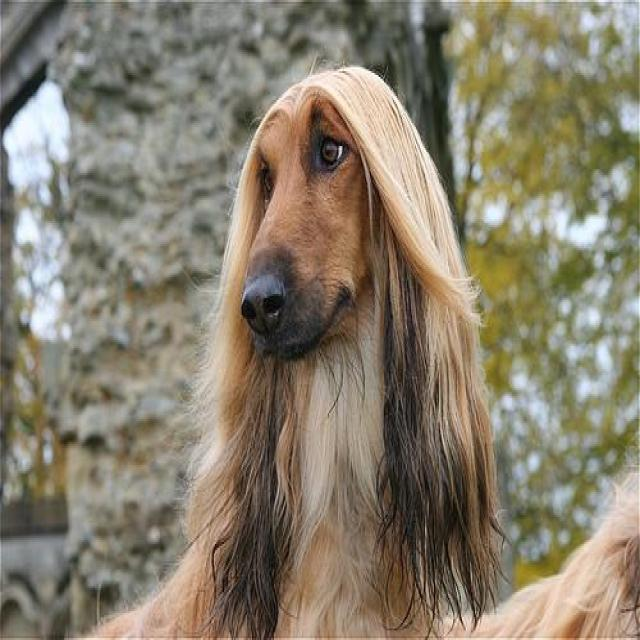afghan_hound: (73, 65, 512, 638)
